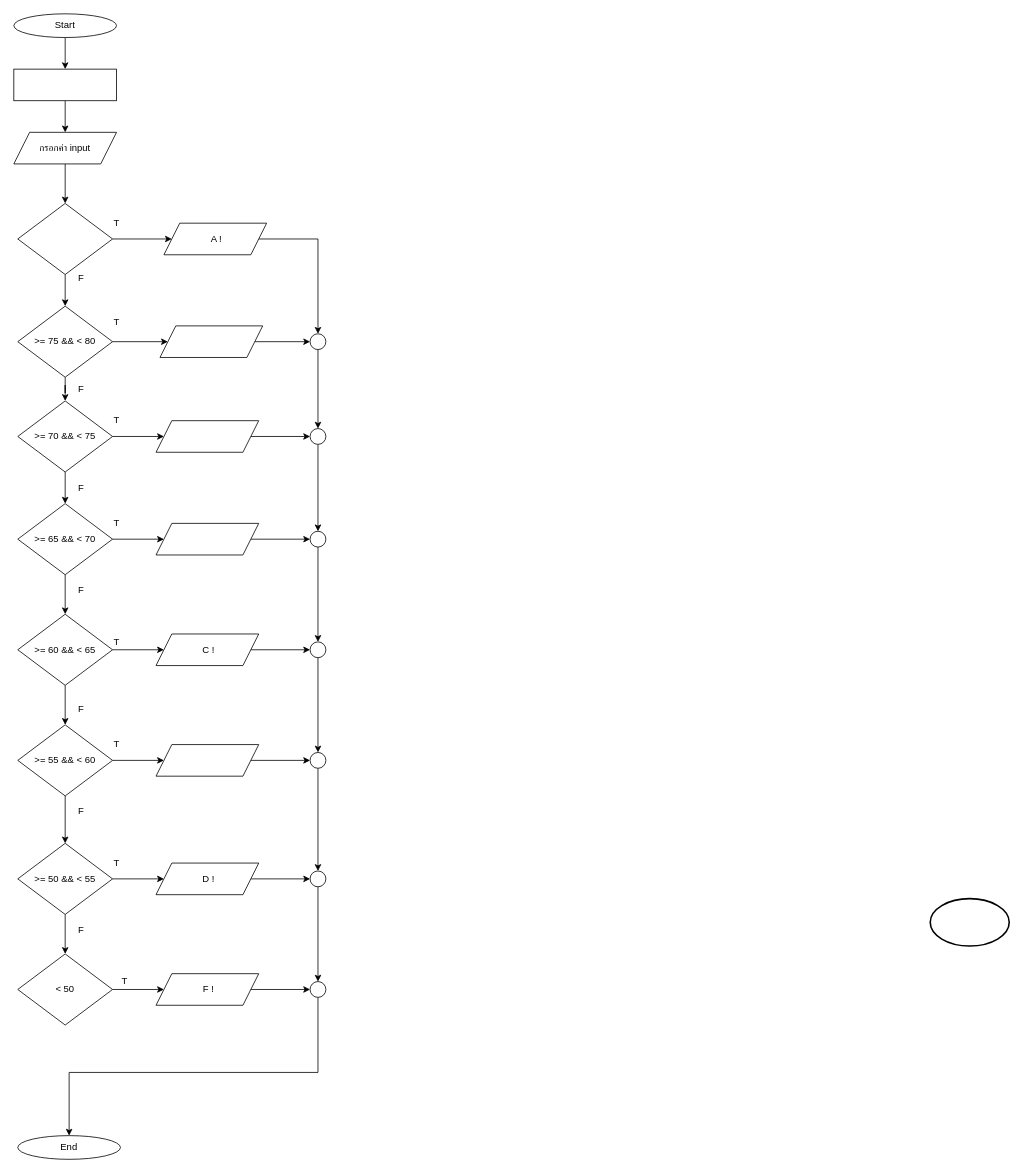
The diagram is 1024 pixels wide and 1173 high, and some of its shapes have lost their labels. Each missing label, with the centre of its shape:
B !: the point at 207,436
B+ !: the point at 211,341
C+ !: the point at 207,539
D+ !: the point at 207,760
input >80: the point at 65,239
กำหนดตัวแปร: the point at 65,84
เริ่ม: the point at 969,921
